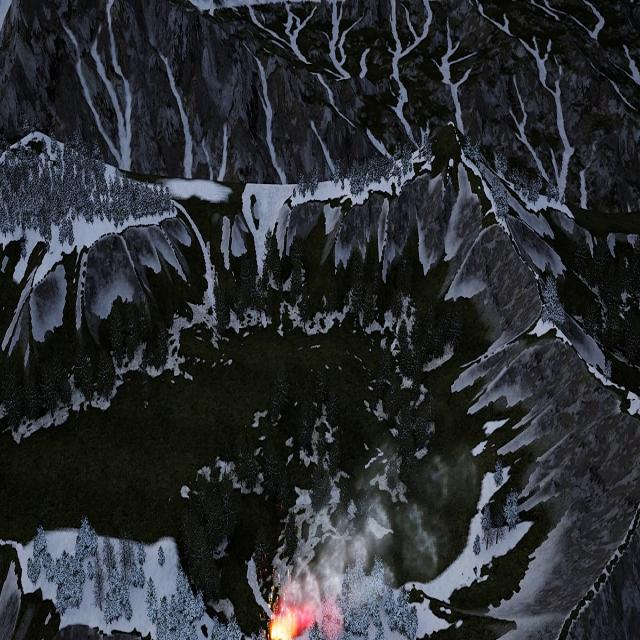fire: (269, 611, 298, 640)
smoke: (278, 444, 476, 640)
